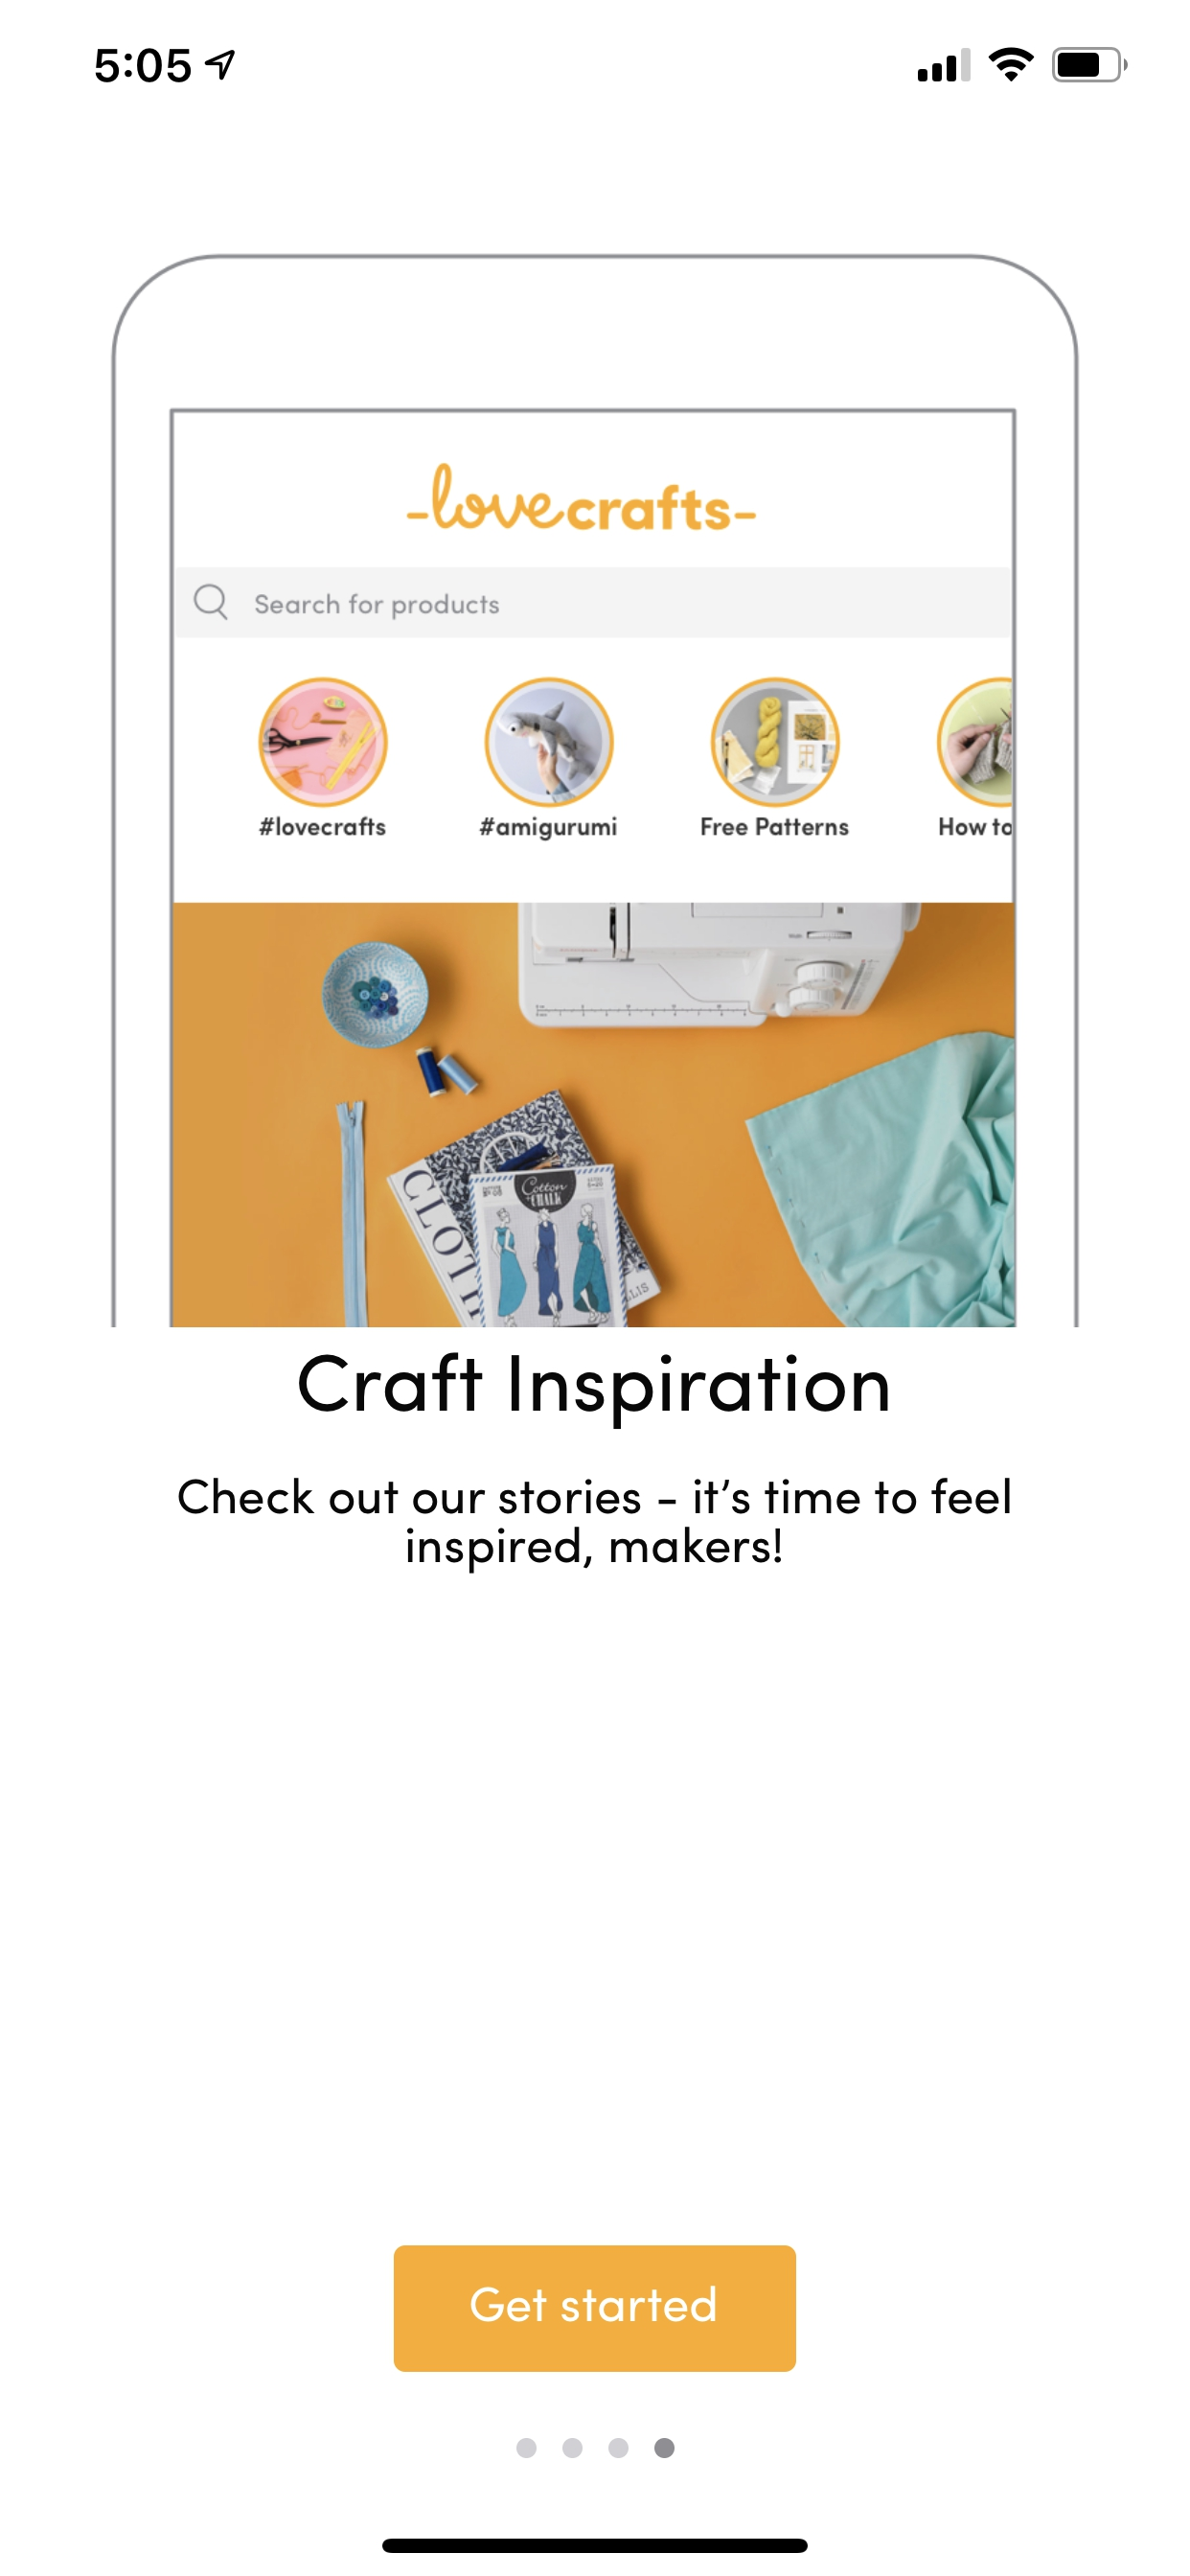Image: (112, 253, 1080, 1327)
PageIndicator: (516, 2436, 674, 2458)
Text: (178, 1477, 1009, 1574), (299, 1350, 888, 1429)
TextButton: (393, 2244, 796, 2372)
UpperTaskBar: (95, 48, 1128, 84)
